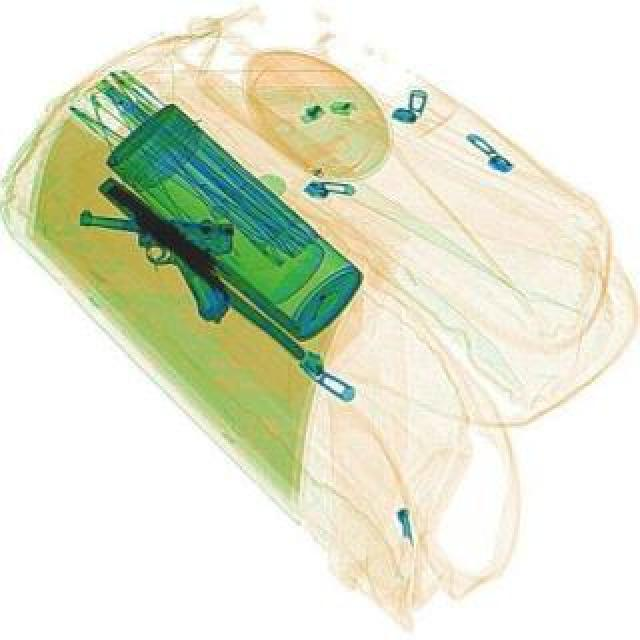gun: (66, 214, 236, 326)
wrench: (88, 172, 318, 366)
